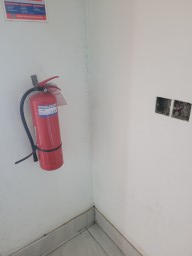fire_extinguisher: (56, 165, 128, 235), (56, 166, 128, 218)
